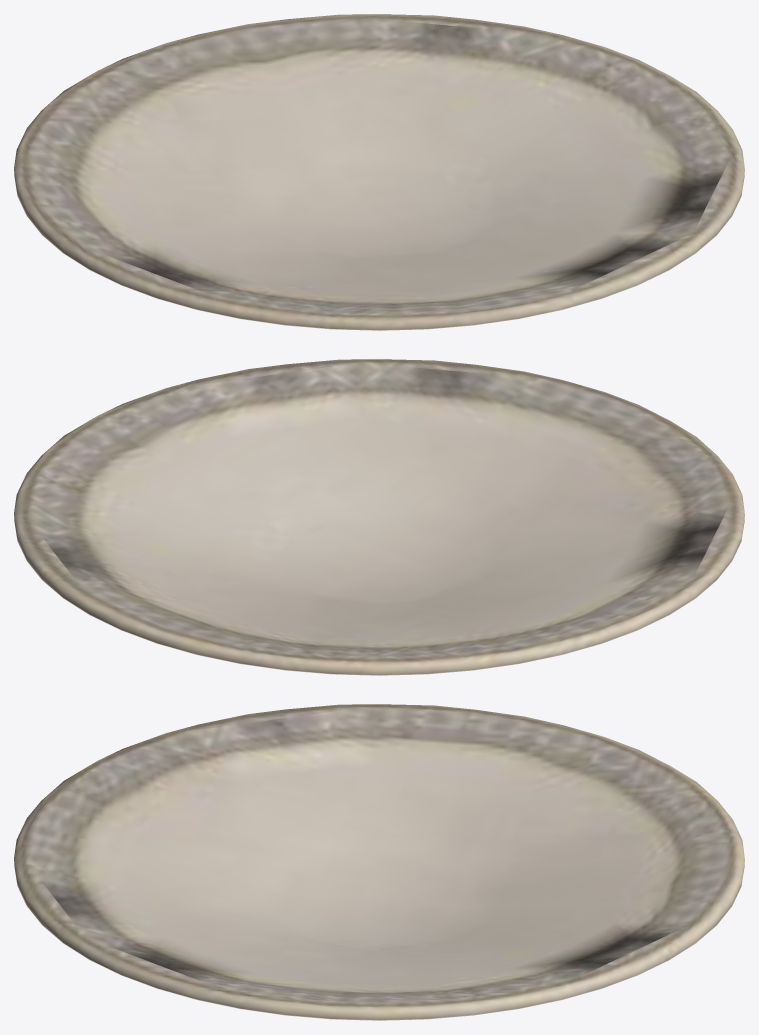
File: plate_round.glb
3 views of the same model, one above another, from view 1: azimuth 30°, elevation 25°; view 2: azimuth 150°, elevation 25°; view 3: azimuth 270°, elevation 25° (orthographic).
Visible parts, largest first — view 1: tea_set_01_plate_large_circular_03; view 2: tea_set_01_plate_large_circular_03; view 3: tea_set_01_plate_large_circular_03.
Boxes of the visible parts, x1=… form: tea_set_01_plate_large_circular_03: x1=14, y1=14, x2=744, y2=330; tea_set_01_plate_large_circular_03: x1=14, y1=359, x2=744, y2=675; tea_set_01_plate_large_circular_03: x1=14, y1=704, x2=744, y2=1020.
Bounding box in the file's own units: 0.1871 × 0.0177 × 0.1871.
Materials: 1 (1 with a texture image).
